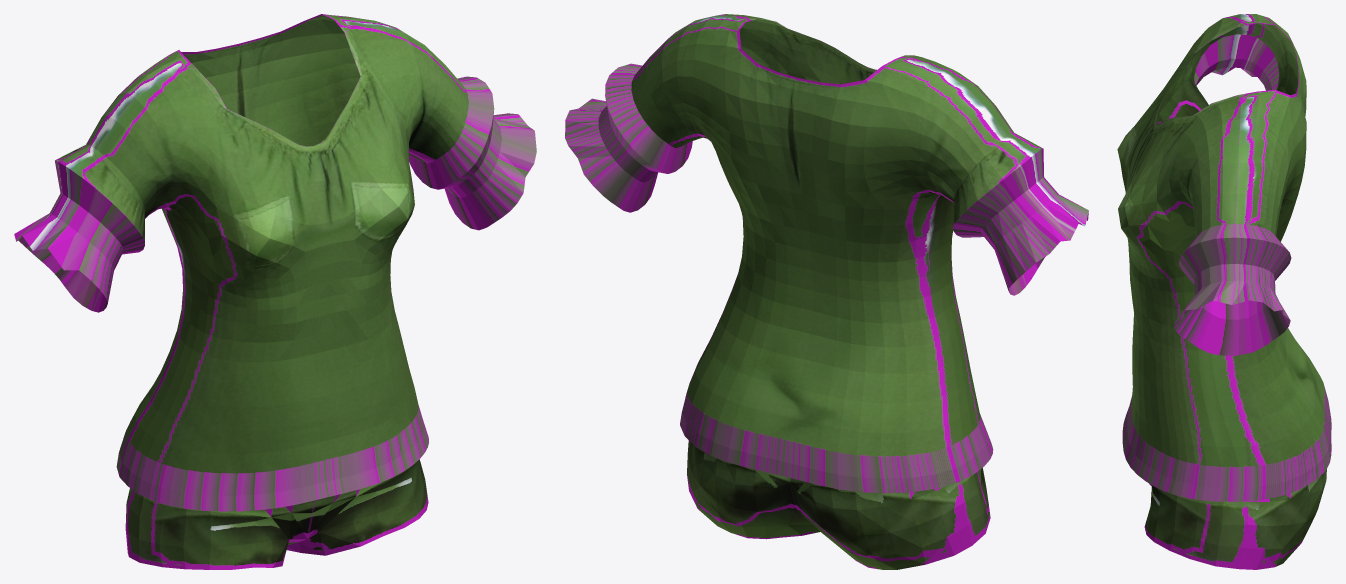
The picture shows the model from 3 angles, left to right: view 1: azimuth 30°, elevation 25°; view 2: azimuth 150°, elevation 25°; view 3: azimuth 270°, elevation 25°; orthographic projection. The views are drawn at different scales.
Bounding box in the file's own units: 1.07 × 1.02 × 0.4204.
1 material, 1 textured.
